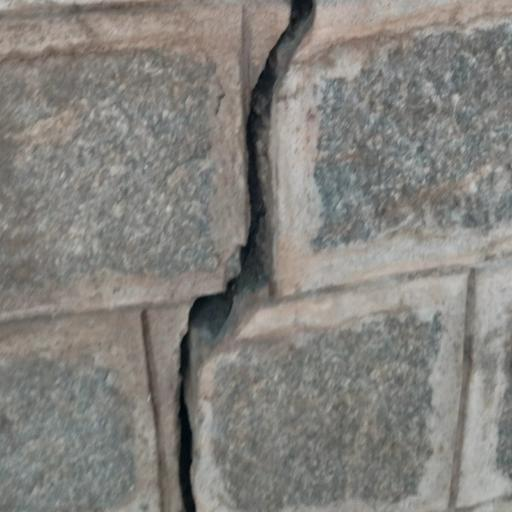major_crack: (161, 0, 325, 512)
